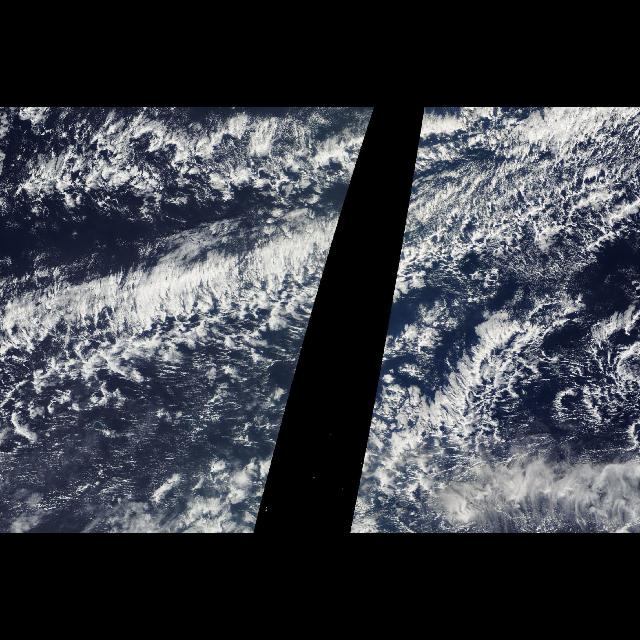Fish: (1, 116, 351, 390), (374, 187, 520, 389)
Gravel: (420, 110, 640, 470)
Sugar: (9, 397, 252, 519)
